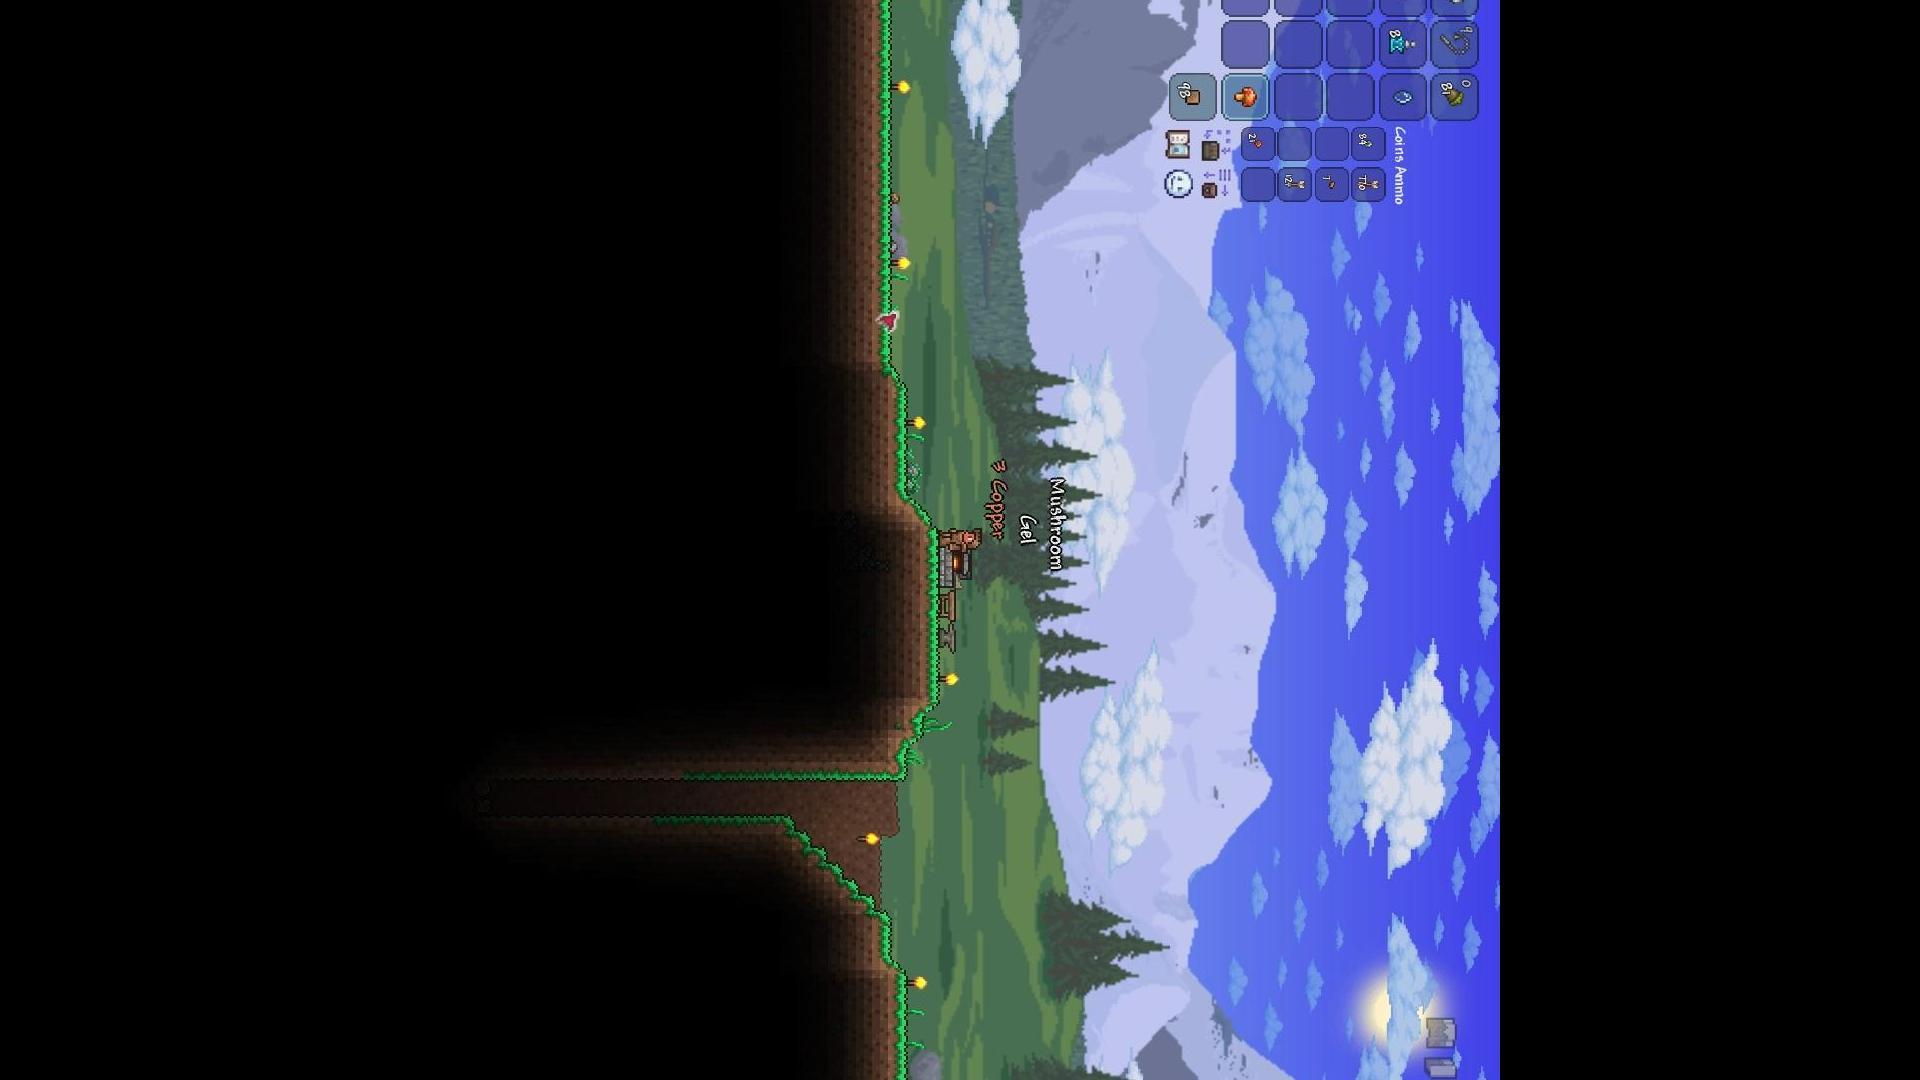anvil: (935, 621, 961, 654)
furnace: (934, 549, 980, 595)
recallP: (1386, 36, 1419, 55)
